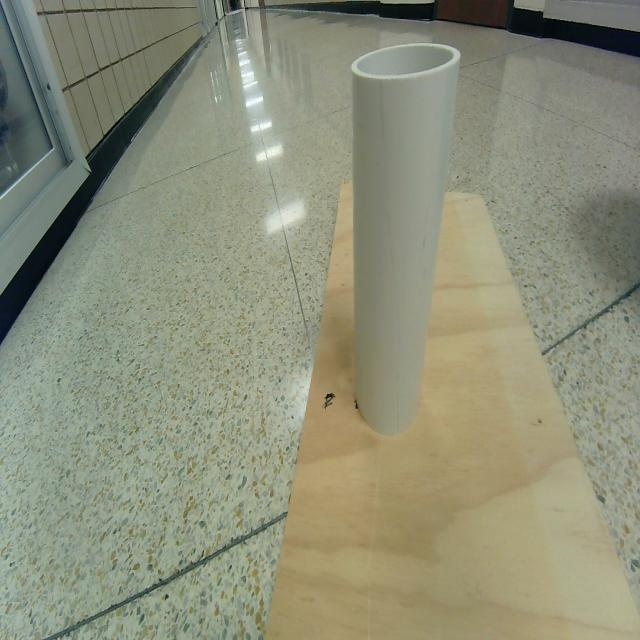coral: (352, 43, 460, 434)
